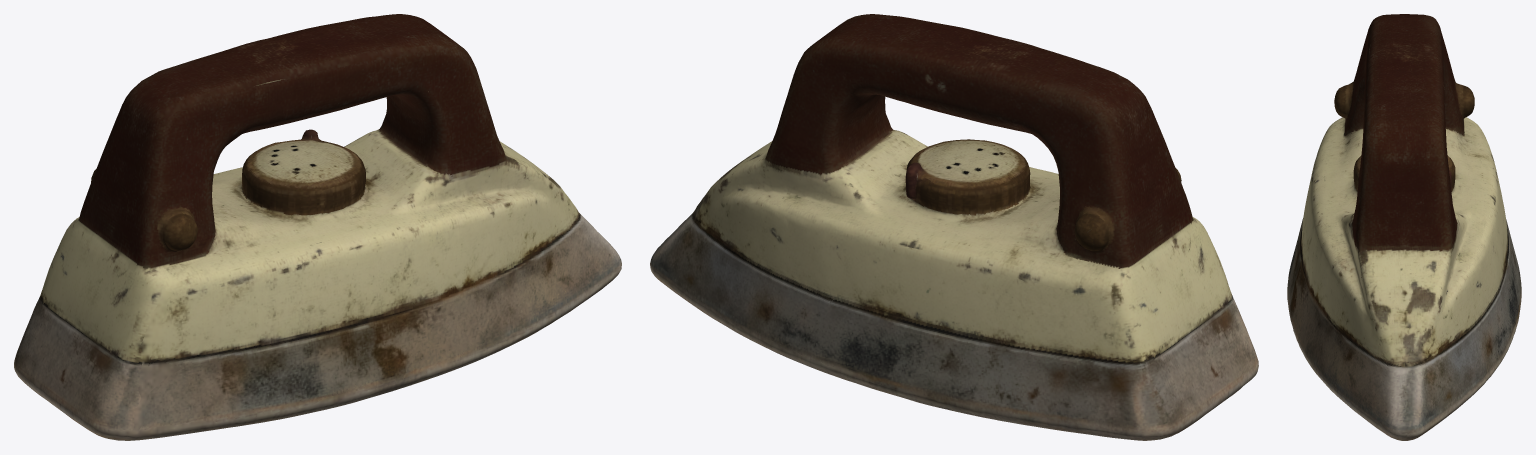
File: raw.glb
The picture shows the model from 3 angles, left to right: view 1: azimuth 30°, elevation 25°; view 2: azimuth 150°, elevation 25°; view 3: azimuth 270°, elevation 25°; orthographic projection. The views are drawn at different scales.
Bounding box in the file's own units: 1.01 × 0.5307 × 0.4354.
Materials: 1 (1 with a texture image).
